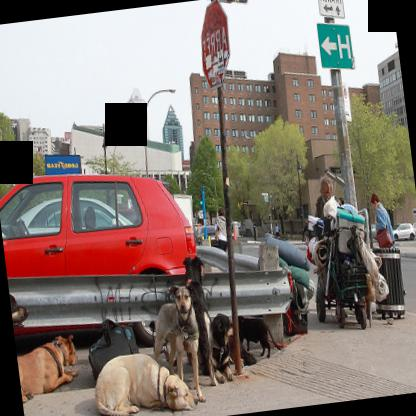backpack: (89, 319, 139, 380)
handbag: (375, 206, 393, 247)
suitcase: (282, 300, 308, 336)
